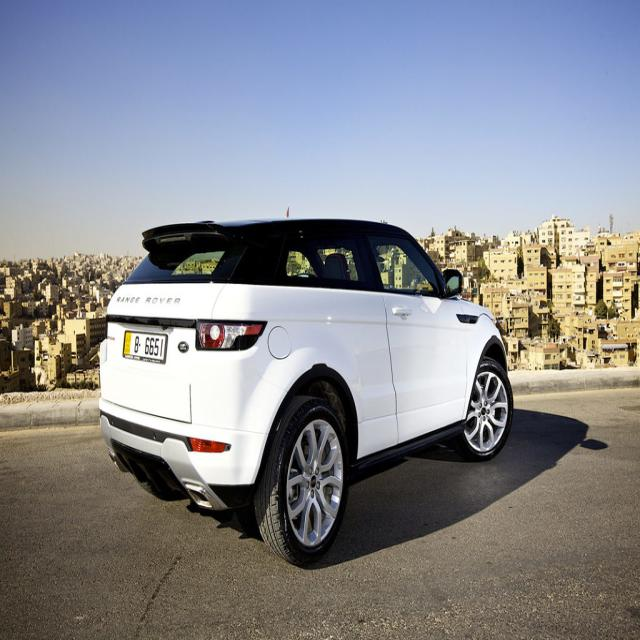car: (88, 208, 516, 558)
